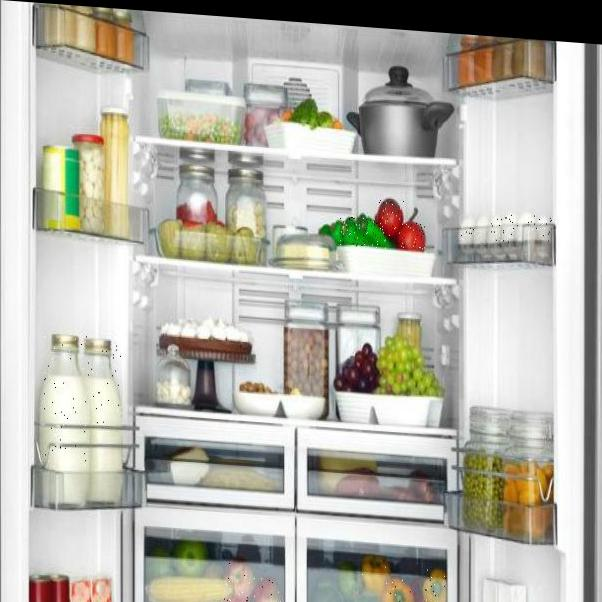apple: (226, 560, 255, 601), (255, 578, 284, 602), (222, 598, 254, 602)
eggs: (519, 211, 536, 242), (459, 216, 476, 246), (503, 215, 518, 246), (476, 214, 490, 245), (536, 216, 552, 242), (489, 215, 502, 242)
green chilies: (340, 216, 388, 249)
milk: (44, 332, 89, 471), (86, 338, 122, 425)
tomato: (379, 198, 404, 239), (400, 222, 425, 250)
yellow bell pepper: (362, 557, 390, 594), (383, 578, 415, 602), (423, 569, 446, 602)
